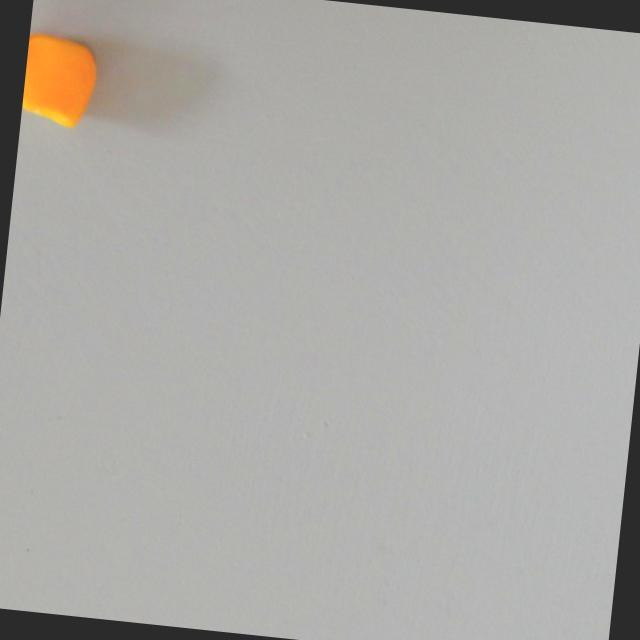dañado: (18, 28, 112, 138)
